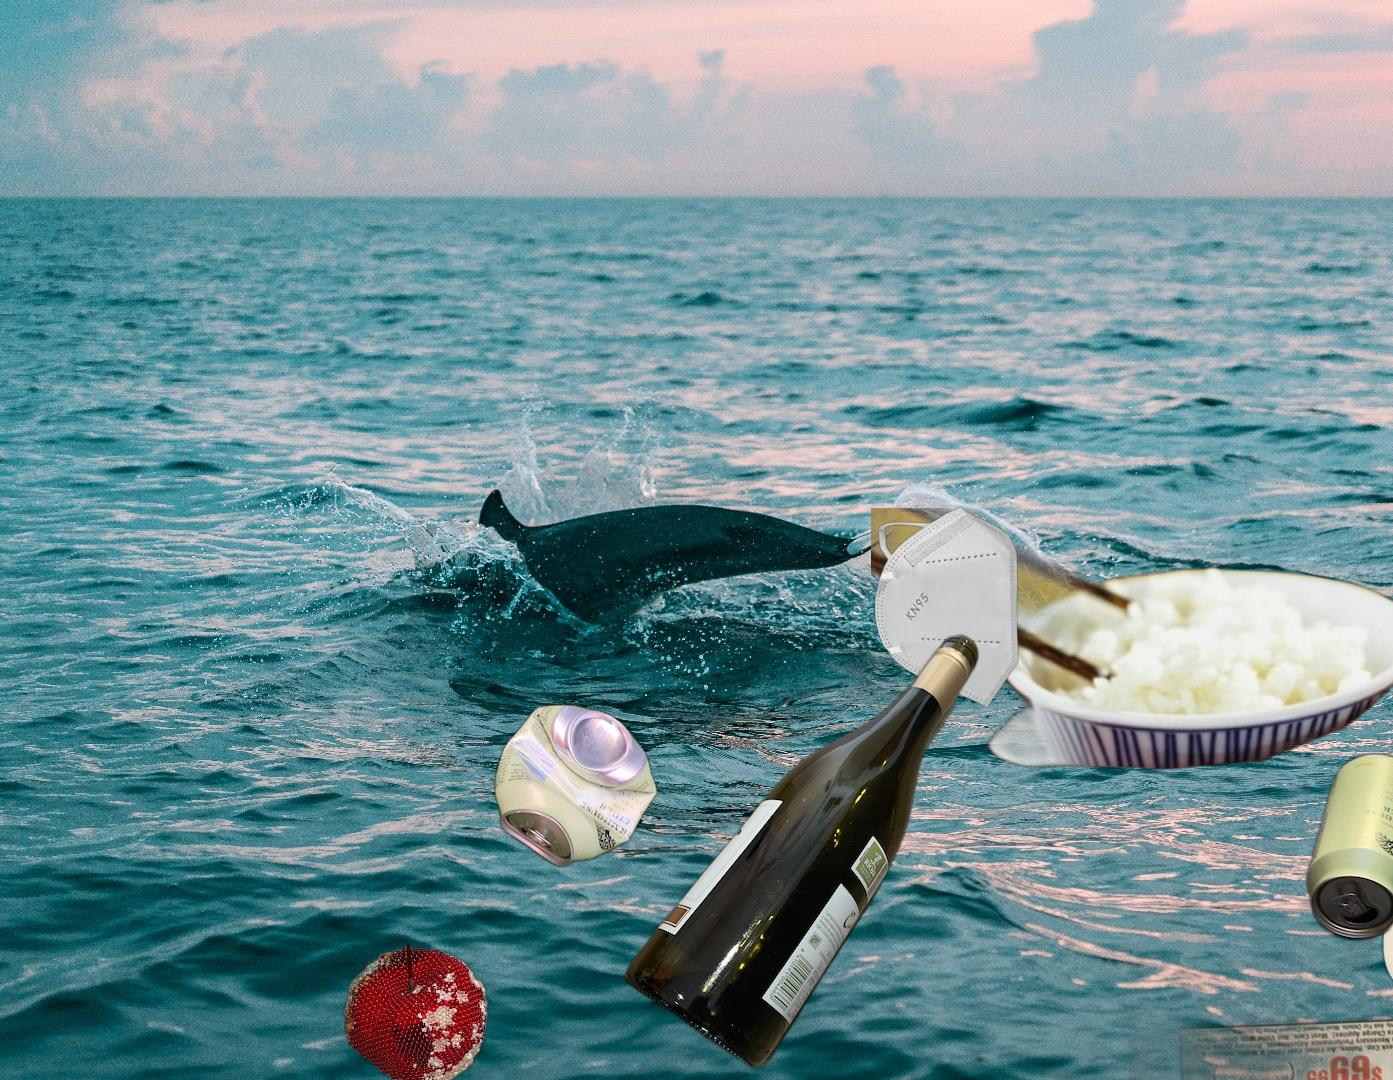biological: (871, 508, 1393, 774), (260, 944, 494, 1080)
glass: (621, 630, 983, 1075)
metal-cans: (1048, 654, 1393, 945), (491, 698, 661, 872)
paper: (1130, 772, 1393, 1080)
trash: (801, 506, 1021, 720)
trashbox-cardboard: (1215, 1033, 1393, 1080)
